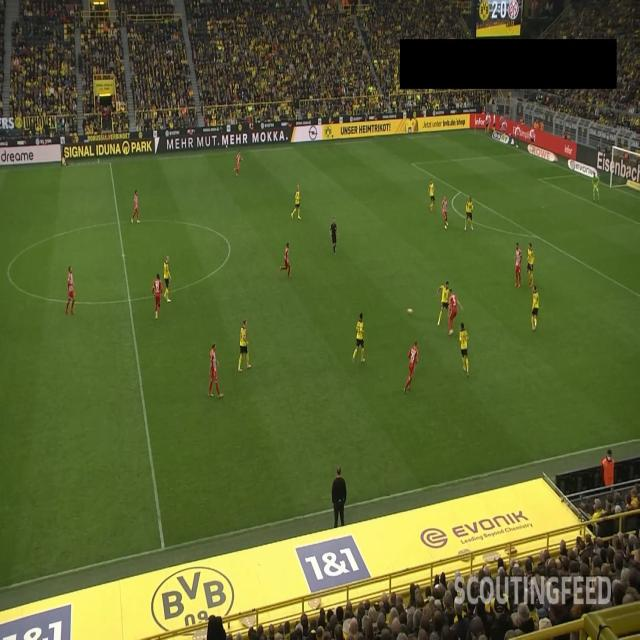ball: (406, 306, 414, 316)
